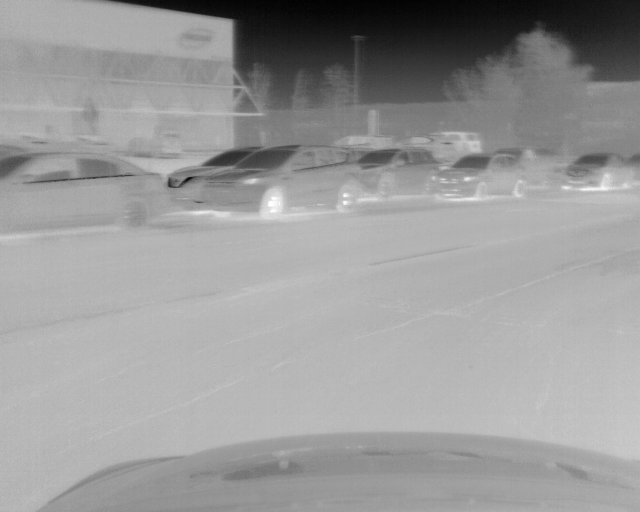car: (1, 148, 166, 235), (203, 144, 359, 216), (166, 145, 258, 213), (435, 151, 526, 201), (358, 147, 437, 200), (562, 154, 631, 192), (428, 131, 478, 154)
